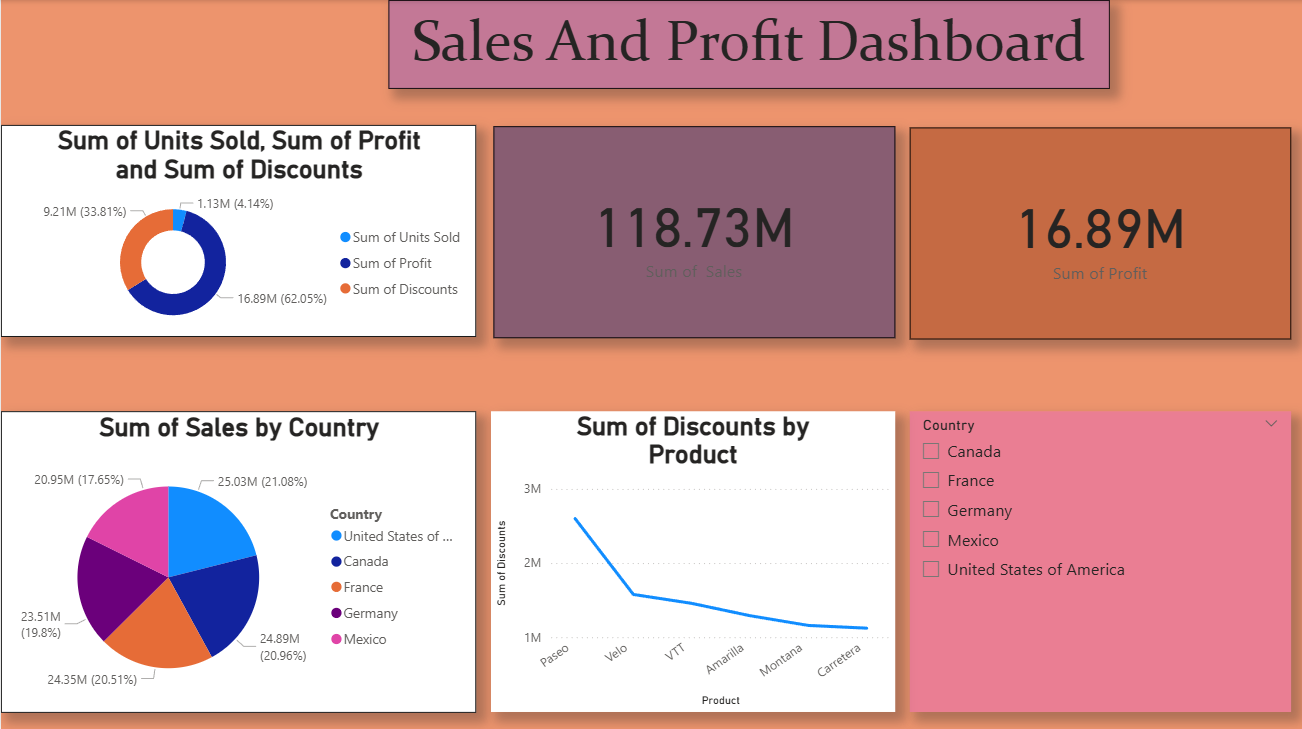

This screenshot's page, from the dashboard's own definition file:
{"tool":"powerbi","page":{"name":"d_1","canvas":[1280,720],"ordinal":0},"visuals":[{"type":"pieChart","fields":{"Y":["Sum(financials. Sales)"],"Category":["financials.Country"]},"box":[0,403.7,466.3,295.7],"z":0},{"type":"lineChart","fields":{"Y":["Sum(financials.Discounts)"],"Category":["financials.Product"]},"box":[481.4,404.3,396.8,294.8],"z":1000},{"type":"textbox","box":[380.7,0,707.8,87.1],"z":3000},{"type":"donutChart","fields":{"Y":["Sum(financials.Units Sold)","Sum(financials.Profit)","Sum(financials.Discounts)"]},"box":[0,123.2,466.5,207.7],"z":4000},{"type":"card","fields":{"Values":["Sum(financials. Sales)"]},"box":[483.9,124.4,394.3,207.7],"z":5000},{"type":"card","fields":{"Values":["Sum(financials.Profit)"]},"box":[891.9,125.6,374.4,207.7],"z":6000},{"type":"slicer","fields":{"Values":["financials.Country"]},"box":[892,404,374,295],"z":7000}]}

Visuals, with their boxes in screenshot pixels (x1, y1, x2, y2), scaled from the page's 1280x720 canvas onto the 1302x729 screenshot:
pieChart - Sum(financials. Sales) x financials.Country: detection(0, 409, 474, 708)
lineChart - Sum(financials.Discounts) x financials.Product: detection(490, 409, 893, 708)
textbox: detection(387, 0, 1107, 88)
donutChart - Sum(financials.Units Sold) x Sum(financials.Profit): detection(0, 125, 475, 335)
card - Sum(financials. Sales): detection(492, 126, 893, 336)
card - Sum(financials.Profit): detection(907, 127, 1288, 337)
slicer - financials.Country: detection(907, 409, 1288, 708)
